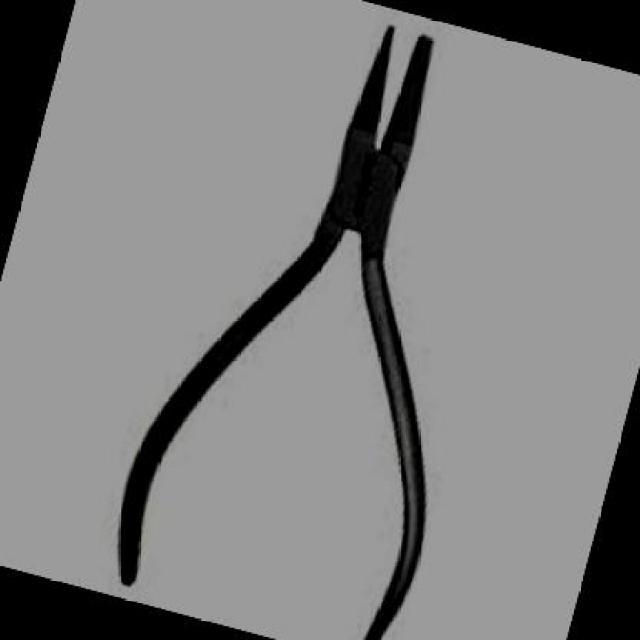pliers: (89, 0, 563, 638)
